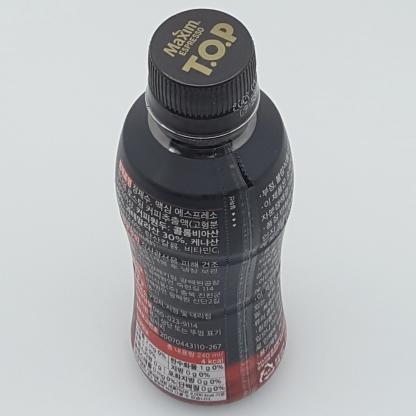--TOP--------240ML: (115, 7, 294, 407)
